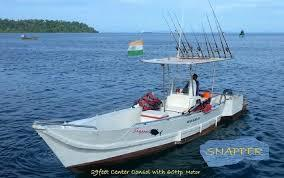fishing boat: (25, 43, 249, 174)
